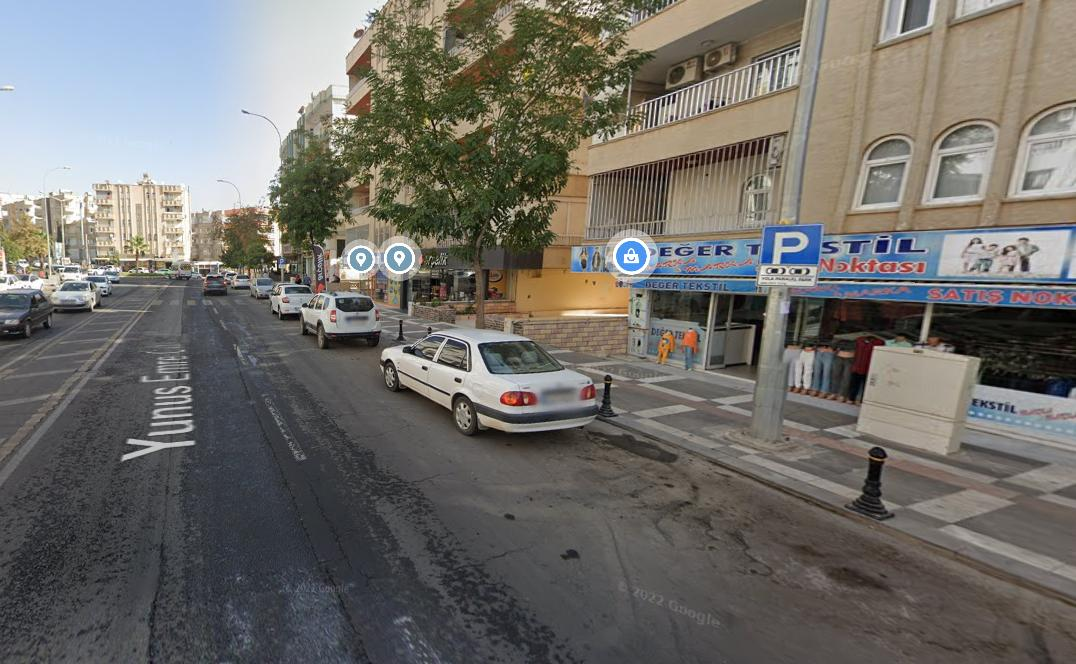nopark: (764, 227, 818, 268)
